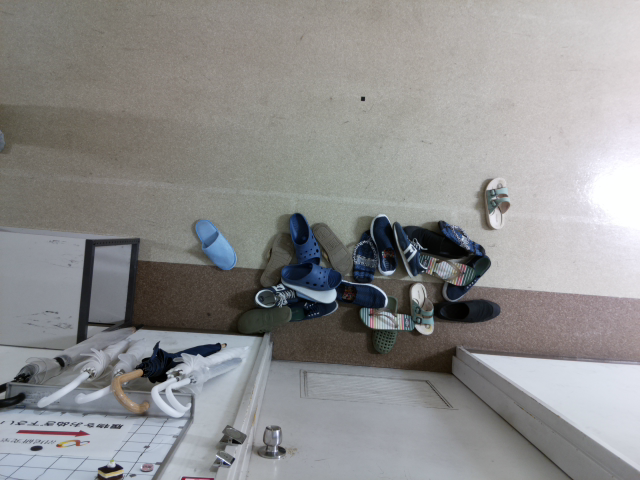Copy of Copy of Copy of Copy of Copy of Copy of sandal: (352, 229, 379, 283)
Copy of Copy of Copy of Copy of Copy of Copy of shoes: (435, 298, 500, 323)
Copy of Copy of Copy of Copy of Copy of sandal: (438, 220, 485, 256)
Copy of Copy of Copy of Copy of Copy of shoes: (441, 255, 490, 301)
Copy of Copy of Copy of Copy of sandal: (418, 253, 475, 286)
Copy of Copy of Copy of Copy of shoes: (392, 220, 427, 278)
Copy of Copy of Copy of sandal: (407, 282, 434, 335)
Copy of Copy of Copy of shoes: (370, 213, 398, 275)
Copy of Copy of sandal: (483, 176, 510, 229)
Copy of Copy of shoes: (288, 299, 338, 321)
Copy of Copy of slipper: (280, 263, 342, 290)
Copy of sandal: (312, 221, 353, 275)
Copy of shoes: (335, 278, 387, 308)
Copy of slipper: (287, 211, 320, 265), (370, 296, 398, 354)
sandal: (260, 233, 294, 288), (358, 306, 414, 330)
shoes: (254, 283, 296, 308)
slipper: (194, 218, 237, 272), (236, 305, 292, 335)
